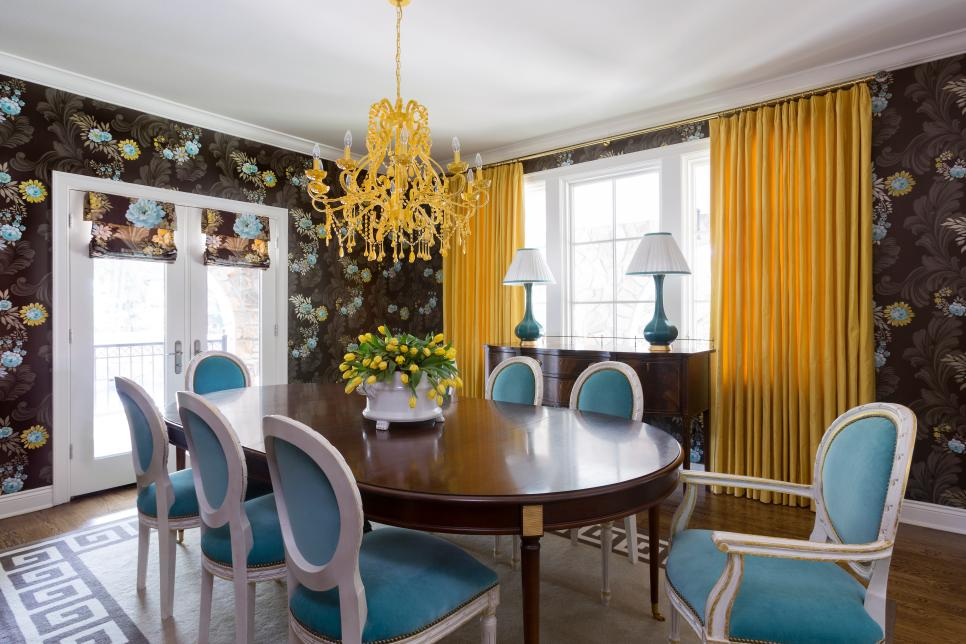chair: (668, 400, 920, 644), (261, 410, 501, 641), (176, 393, 287, 643), (114, 375, 198, 635), (571, 356, 637, 426), (484, 354, 544, 409), (186, 347, 259, 392)
